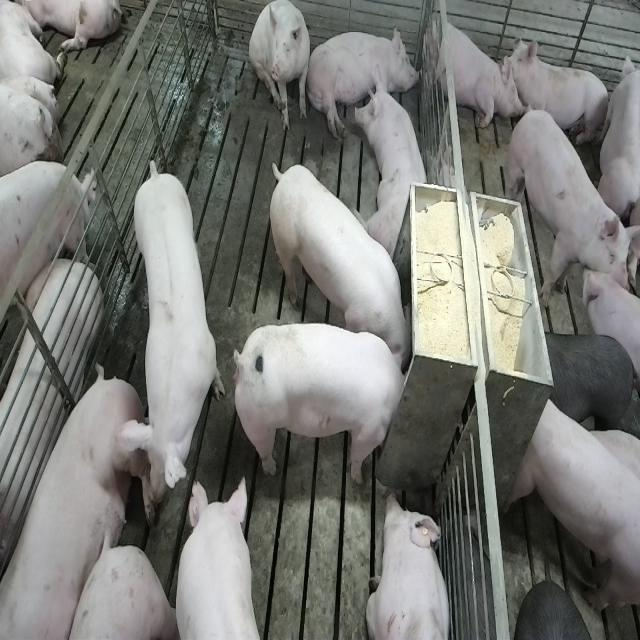Feeding: (264, 160, 412, 371), (228, 320, 410, 484)
Lateral_lying: (0, 368, 151, 640), (0, 258, 102, 583), (306, 23, 421, 140)
Sitting: (426, 9, 520, 136), (249, 2, 312, 134)
Standing: (128, 156, 222, 498), (508, 394, 638, 622), (504, 110, 632, 316), (0, 164, 95, 348), (176, 476, 272, 640), (545, 325, 637, 442)
Sternal_lying: (355, 72, 433, 259), (366, 490, 452, 640), (505, 35, 612, 152)
